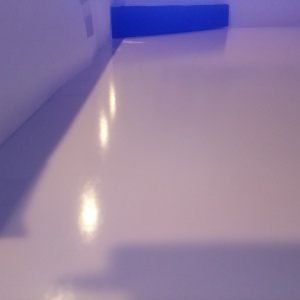zone: (110, 3, 231, 41)
